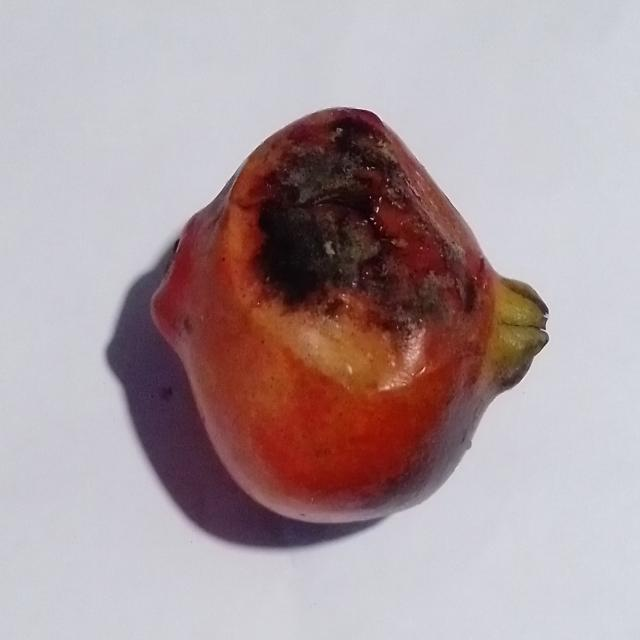Rotten: (145, 100, 554, 532)
